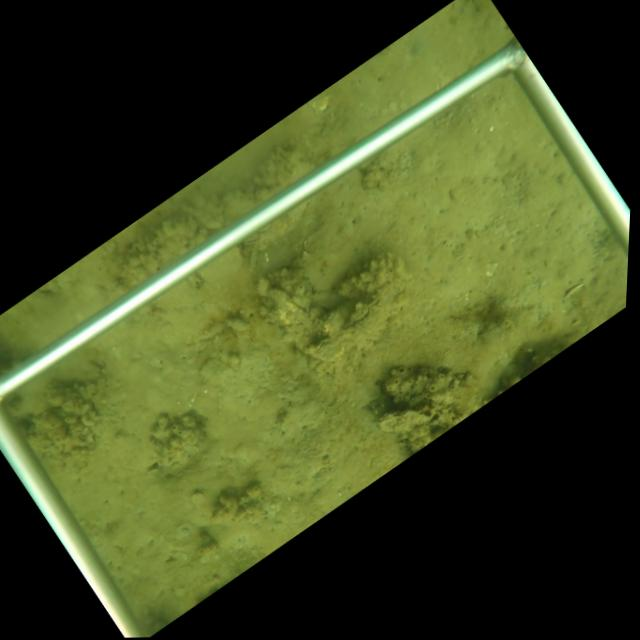Oyster-Closed: (298, 282, 401, 365), (374, 406, 435, 436)
Oyster-Indeterminate: (264, 284, 311, 327)
